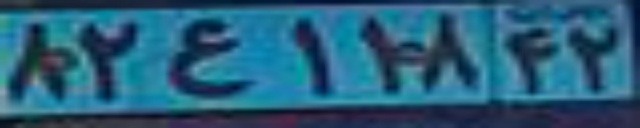1: (290, 16, 335, 95), (355, 17, 401, 93)
2: (79, 19, 141, 101), (566, 26, 622, 93)
4: (503, 26, 560, 94)
8: (417, 13, 481, 92), (6, 22, 67, 102)
ain: (165, 19, 251, 96)
